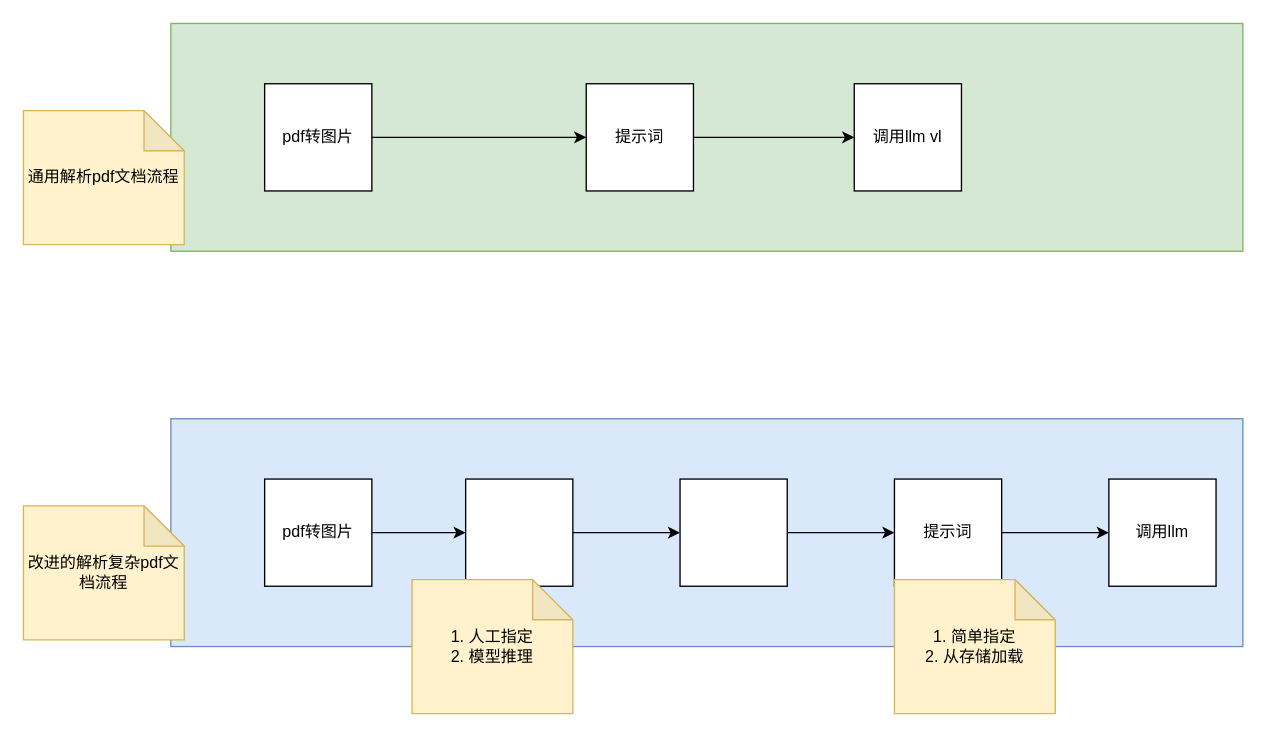
This 1266x737 diagram has some shape labels left out. Each missing label, with the box of its shape:
特定区域roi: (464, 478, 573, 586)
结构化数据: (679, 478, 787, 586)
